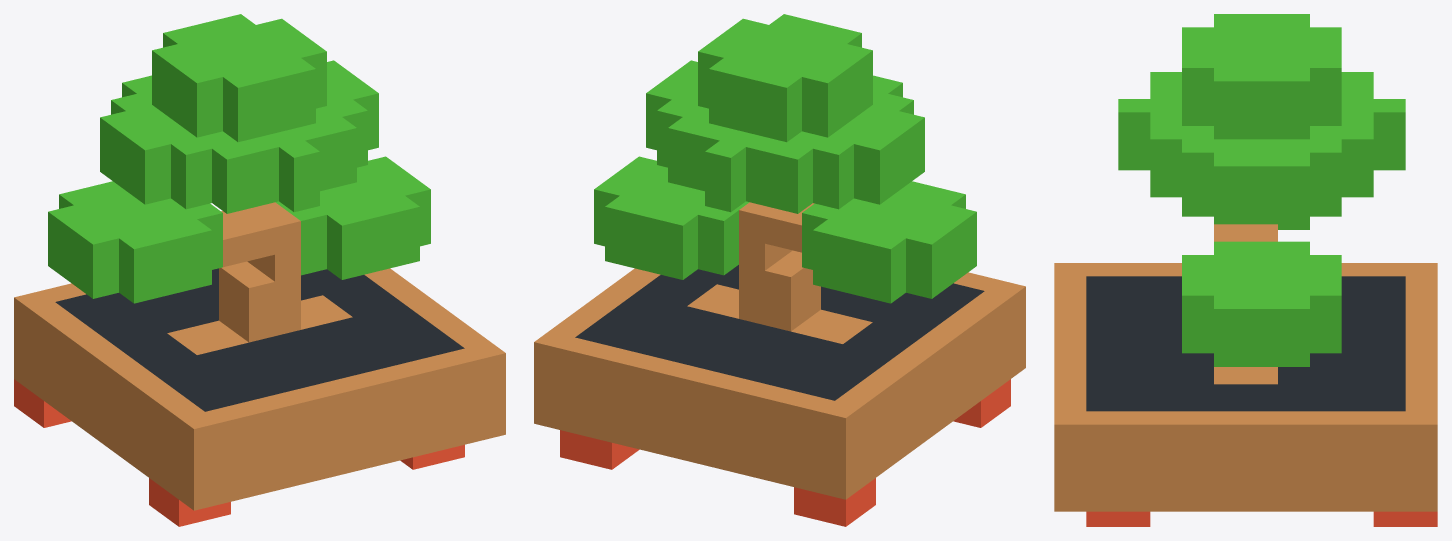
File: voxel-bonsai.glb
3 views of the same model, side by side, from view 1: azimuth 30°, elevation 25°; view 2: azimuth 150°, elevation 25°; view 3: azimuth 270°, elevation 25° (orthographic). The views are drawn at different scales.
Parts seen in each view (by area): view 1: bonsai; view 2: bonsai; view 3: bonsai.
Part boxes in pixels (left/top/right/bottom): bonsai: left=14, top=14, right=505, bottom=526; bonsai: left=534, top=14, right=1025, bottom=526; bonsai: left=1054, top=14, right=1437, bottom=526.
Size of the model in its own units: 2.23 by 2.4 by 2.06.
